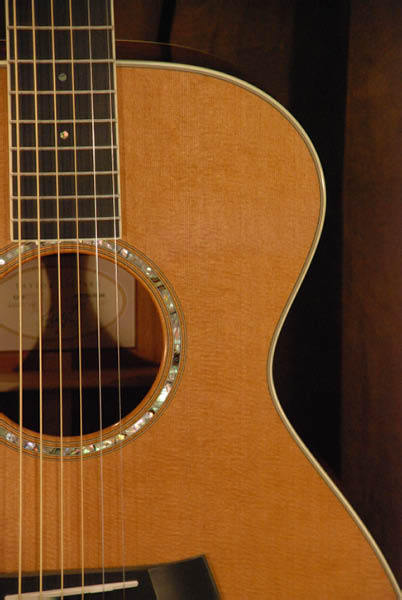guitar: (1, 1, 402, 600)
